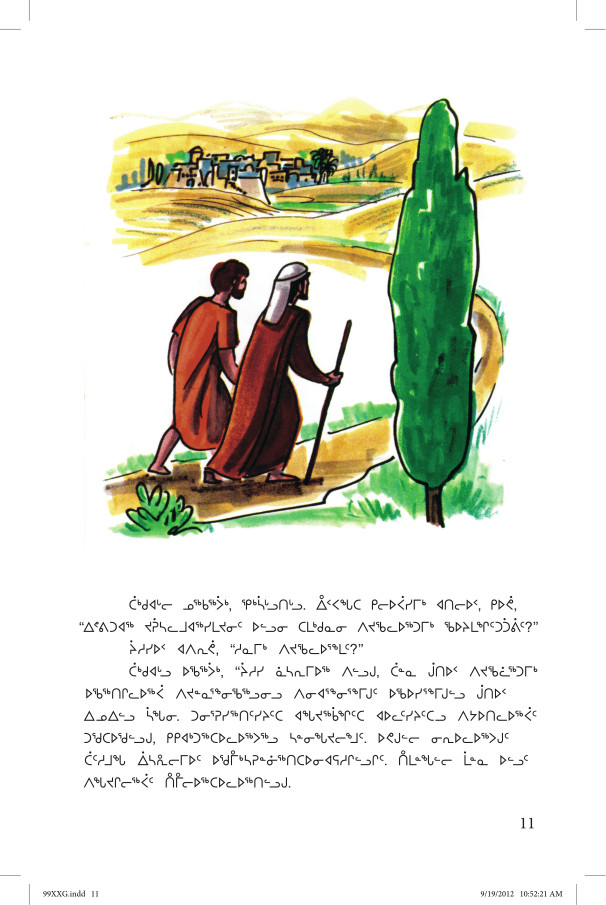inuktitut: (68, 583, 548, 796)
